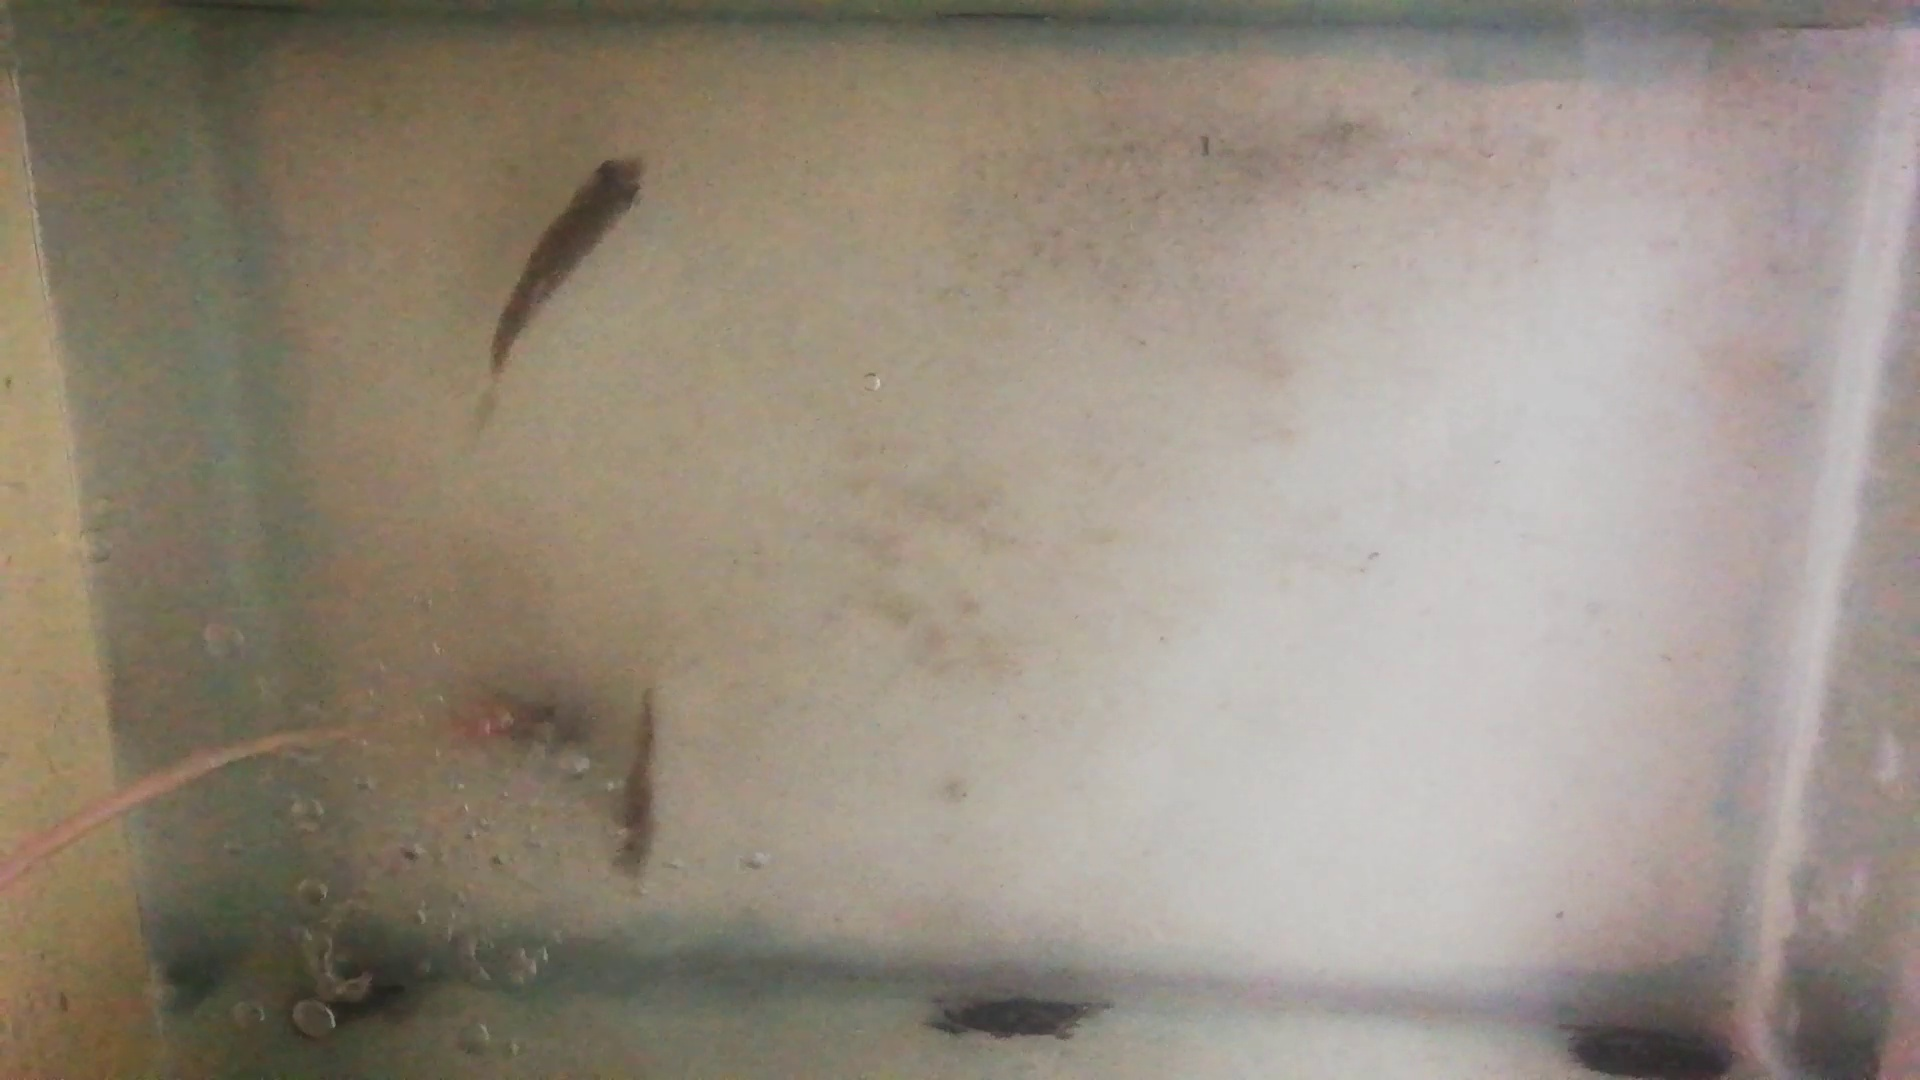fish: (487, 157, 646, 371), (607, 688, 657, 880)
